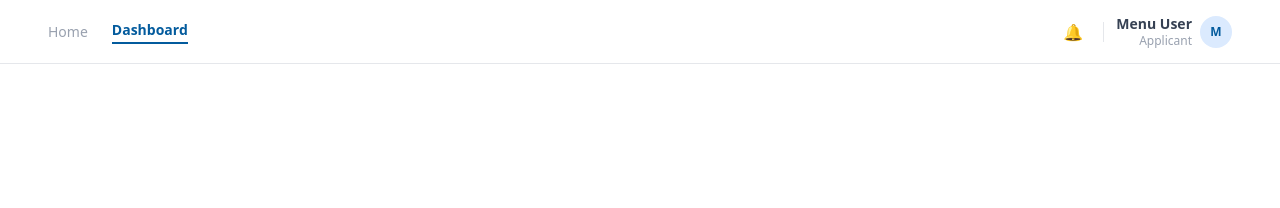
Scenario: Topbar › user dropdown menu › closes dropdown after clicking Dashboard in menu
Expected: the text "Menu User" is shown, left=1116, top=15, right=1192, bottom=33
Click the button "Menu User Applicant M".
click(1174, 32)  # box left=1116, top=15, right=1232, bottom=48
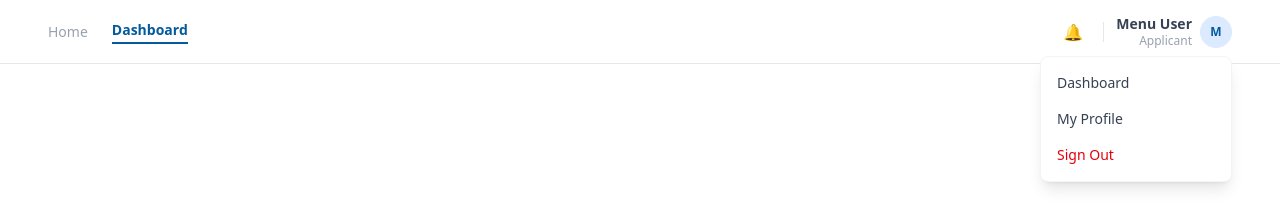
Click the 2nd button "Dashboard".
click(1136, 83)  # box left=1041, top=65, right=1231, bottom=101
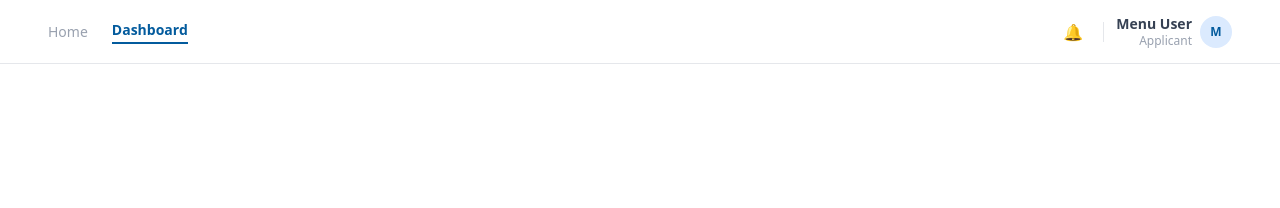
Expected: the button "Sign Out" is gone
